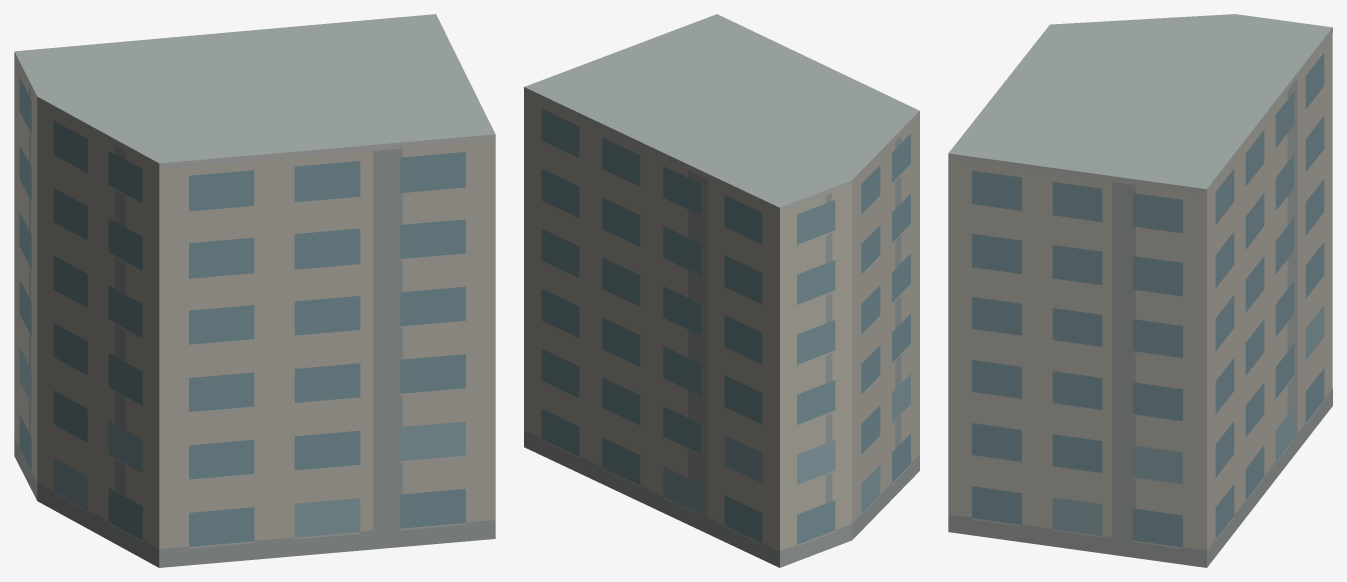
File: survey-upis-32835316.glb
The picture shows the model from 3 angles, left to right: view 1: azimuth 30°, elevation 25°; view 2: azimuth 150°, elevation 25°; view 3: azimuth 270°, elevation 25°; orthographic projection. The views are drawn at different scales.
Visible parts, largest first — view 1: survey-upis-32835316.tmp; view 2: survey-upis-32835316.tmp; view 3: survey-upis-32835316.tmp.
Part boxes in pixels (x1,y1,x2,y2): survey-upis-32835316.tmp: (14, 14, 495, 567); survey-upis-32835316.tmp: (524, 14, 919, 567); survey-upis-32835316.tmp: (948, 14, 1332, 567).
Bounding box in the file's own units: 16.04 × 16.15 × 14.87.
